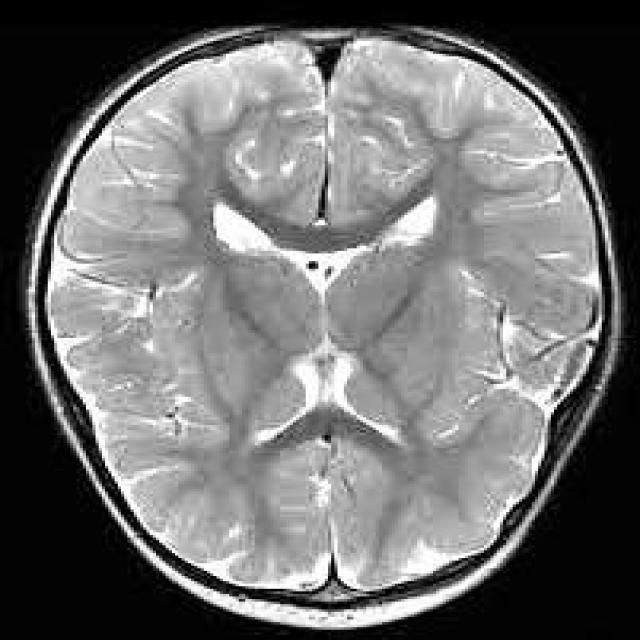notumor: (25, 26, 627, 632)
